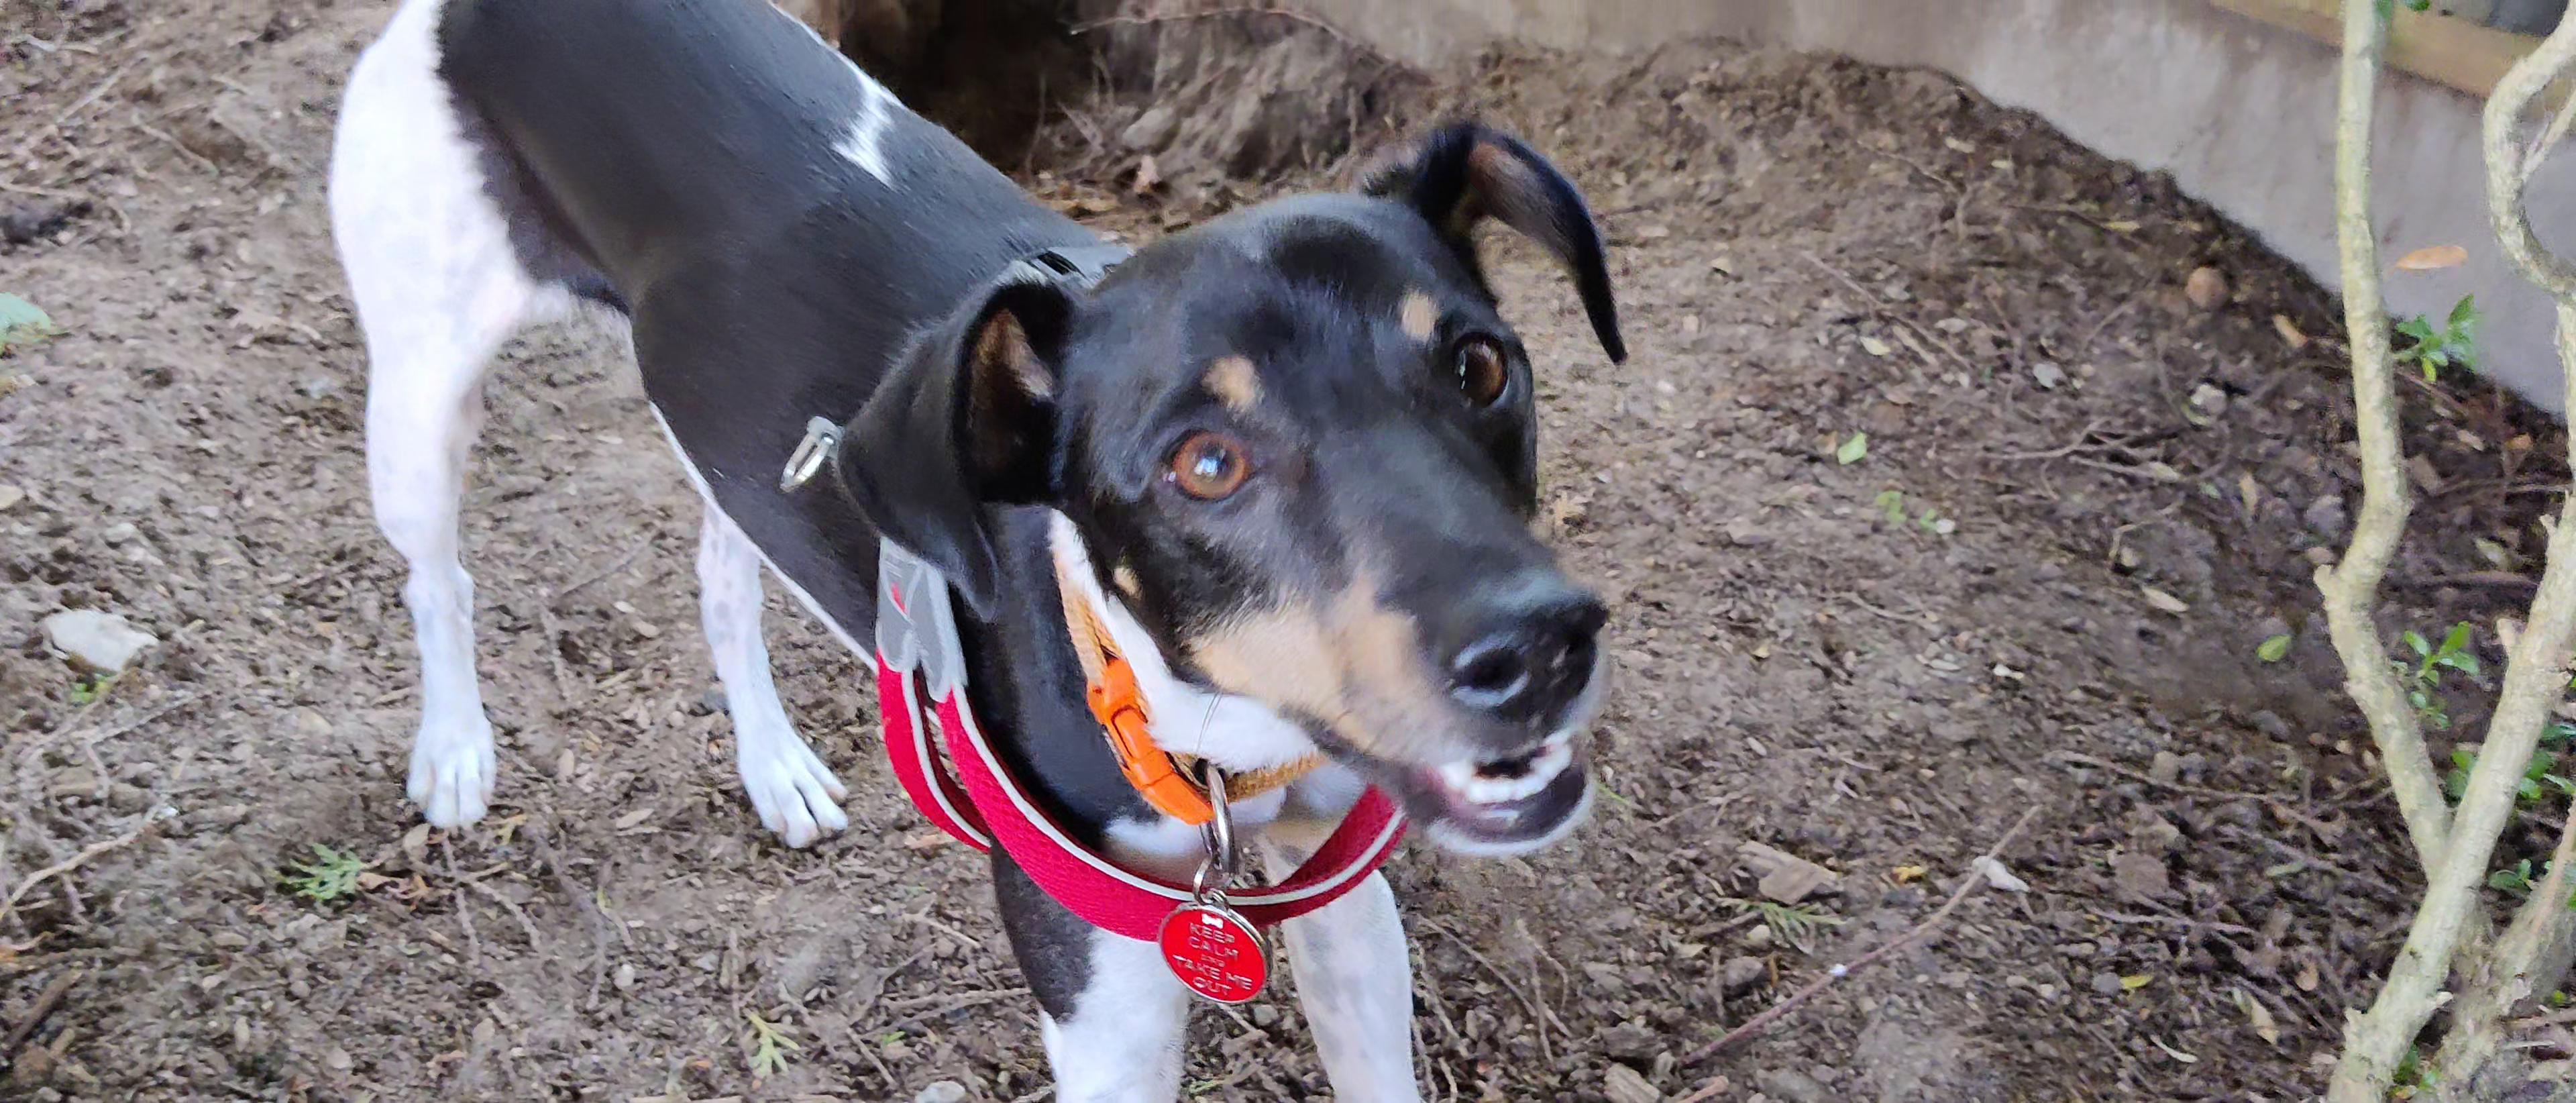Dog: (261, 0, 1694, 1103)
